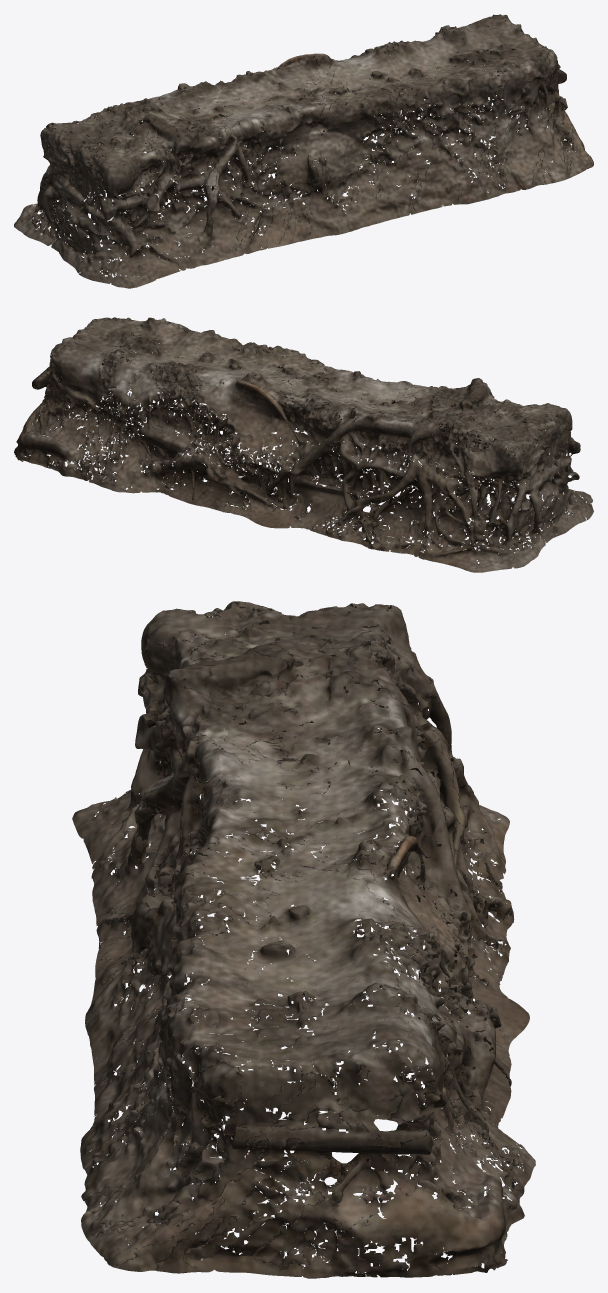
Rendered from muddy_bank_left_wall.raw.glb.
The picture shows the model from 3 angles, top to bottom: view 1: azimuth 30°, elevation 25°; view 2: azimuth 150°, elevation 25°; view 3: azimuth 270°, elevation 25°; orthographic projection. The views are drawn at different scales.
Visible parts, largest first — view 1: world; view 2: world; view 3: world.
Boxes of the visible parts, left/top/right/bottom form: world: left=14, top=14, right=593, bottom=288; world: left=14, top=317, right=593, bottom=572; world: left=72, top=601, right=535, bottom=1278.
Bounding box in the file's own units: 0.9998 × 0.2201 × 0.3996.
Materials: 1 (1 with a texture image).
